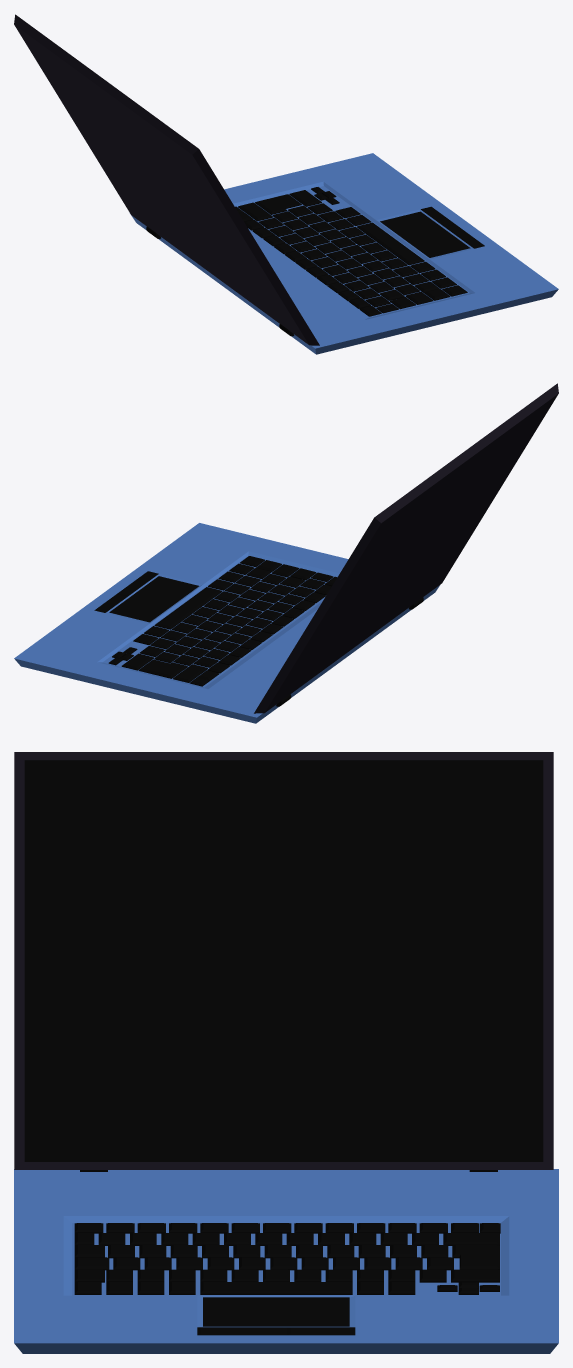
Rendered from Laptop1-Color1.fbx.
3 views of the same model, one above another, from view 1: azimuth 30°, elevation 25°; view 2: azimuth 150°, elevation 25°; view 3: azimuth 270°, elevation 25° (orthographic). The views are drawn at different scales.
Visible parts, largest first — view 1: Laptop, Laptop Monitor, Laptop Keyboard; view 2: Laptop, Laptop Monitor, Laptop Keyboard; view 3: Laptop Monitor, Laptop, Laptop Keyboard.
Part boxes in pixels (bbox=[...]): Laptop: bbox=[130, 153, 558, 354]; Laptop Monitor: bbox=[14, 14, 319, 345]; Laptop Keyboard: bbox=[235, 187, 467, 316]; Laptop: bbox=[14, 523, 439, 723]; Laptop Monitor: bbox=[254, 383, 558, 713]; Laptop Keyboard: bbox=[108, 556, 337, 686]; Laptop Monitor: bbox=[14, 752, 553, 1169]; Laptop: bbox=[14, 1169, 558, 1353]; Laptop Keyboard: bbox=[74, 1223, 500, 1294].
Size of the model in its own units: 106 by 66.06 by 93.89.
